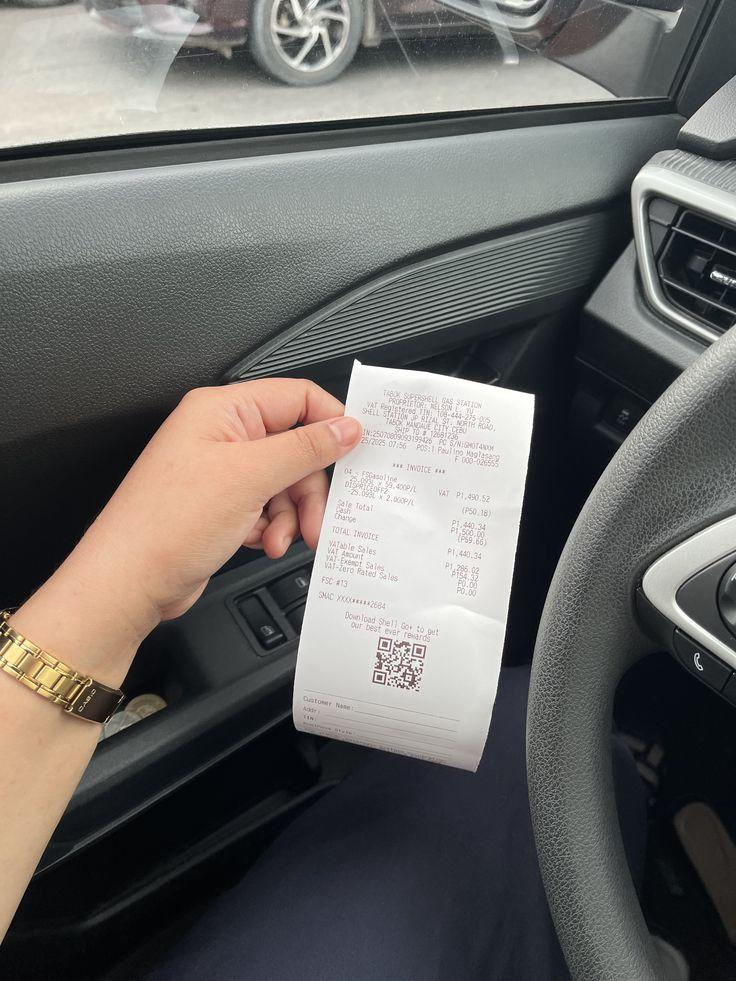receipt-in-hand: (293, 362, 533, 770)
